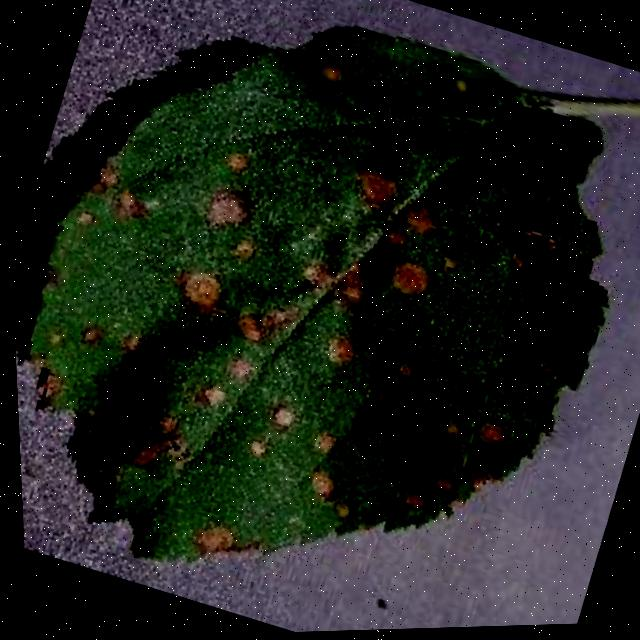black_rot: (98, 388, 230, 505), (282, 234, 389, 319), (60, 299, 168, 382), (383, 451, 476, 543), (331, 149, 418, 240), (158, 247, 246, 334), (96, 166, 183, 246), (222, 287, 306, 369), (182, 503, 262, 580), (197, 171, 270, 252), (454, 394, 529, 471), (293, 39, 369, 114), (308, 309, 379, 389), (378, 241, 451, 318), (172, 356, 246, 429), (373, 334, 440, 404), (206, 128, 279, 192), (293, 413, 354, 475), (292, 455, 350, 515), (231, 425, 285, 481), (256, 390, 307, 440)
